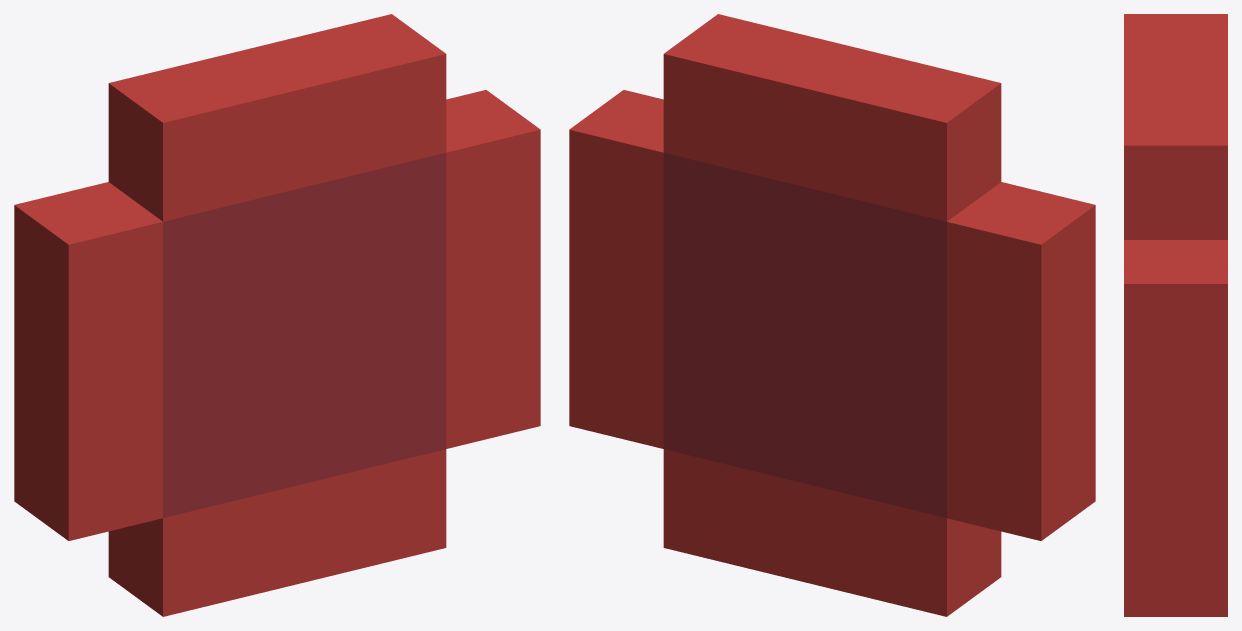
The model's file is connect-red.glb.
3 renders of one model, left to right at view 1: azimuth 30°, elevation 25°; view 2: azimuth 150°, elevation 25°; view 3: azimuth 270°, elevation 25°, orthographic. The views are drawn at different scales.
Parts seen in each view (by area): view 1: Node; view 2: Node; view 3: Node.
Boxes of the visible parts, bbox=[...] form: Node: bbox=[14, 14, 540, 616]; Node: bbox=[569, 14, 1095, 616]; Node: bbox=[1124, 14, 1227, 616].
Bounding box in the file's own units: 0.5 × 0.5 × 0.1.
Materials: 1 (1 with a texture image).
